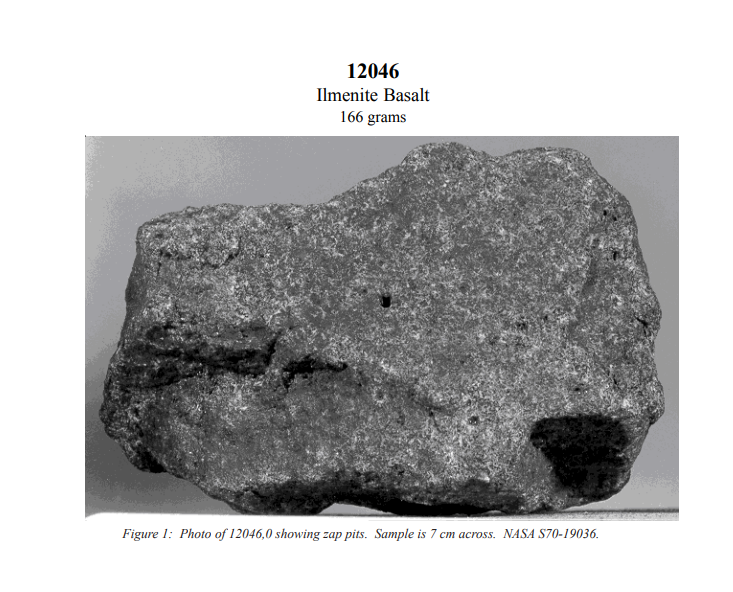Basalt: (84, 135, 673, 518)
